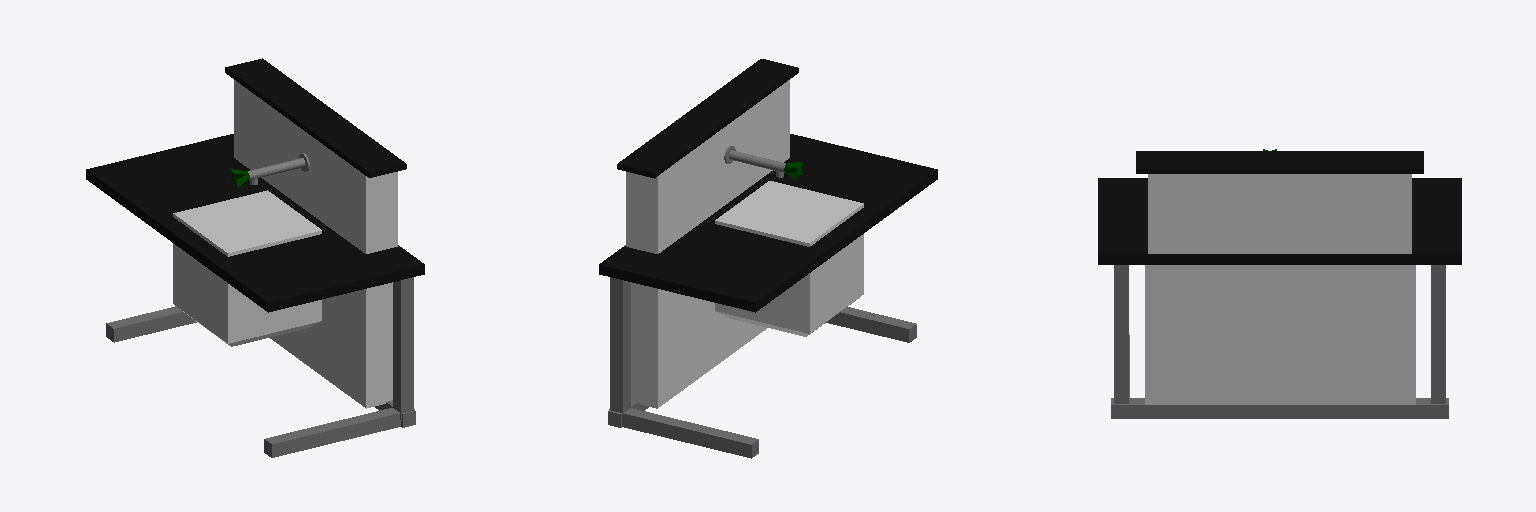
The model's file is Sink.obj.
3 renders of one model, left to right at view 1: azimuth 30°, elevation 25°; view 2: azimuth 150°, elevation 25°; view 3: azimuth 270°, elevation 25°, orthographic.
Visible parts, largest first — view 1: Cube.002_Cube.001, Cube_Cube.004, Cube.003_Cube.006, Cube.020_Cube.023, Cube.005_Cube.002, Cube.017_Cube.020, Cube.022_Cube.025, Cube.018_Cube.021, Cylinder; view 2: Cube.002_Cube.001, Cube_Cube.004, Cube.003_Cube.006, Cube.020_Cube.023, Cube.005_Cube.002, Cube.018_Cube.021, Cube.021_Cube.024, Cube.017_Cube.020, Cylinder; view 3: Cube.020_Cube.023, Cube_Cube.004, Cube.002_Cube.001, Cube.005_Cube.002, Cube.019_Cube.022, Cube.021_Cube.024, Cube.022_Cube.025.
Boxes of the visible parts, <box> form: Cube.002_Cube.001: <box>86,134,424,312</box>; Cube_Cube.004: <box>234,80,397,253</box>; Cube.003_Cube.006: <box>173,190,321,346</box>; Cube.020_Cube.023: <box>270,282,392,408</box>; Cube.005_Cube.002: <box>225,58,406,177</box>; Cube.017_Cube.020: <box>264,408,414,457</box>; Cube.022_Cube.025: <box>393,277,413,420</box>; Cube.018_Cube.021: <box>106,306,196,342</box>; Cylinder: <box>248,158,305,180</box>; Cube.002_Cube.001: <box>599,134,937,312</box>; Cube_Cube.004: <box>626,80,789,253</box>; Cube.003_Cube.006: <box>715,181,863,336</box>; Cube.020_Cube.023: <box>631,282,766,408</box>; Cube.005_Cube.002: <box>617,59,798,178</box>; Cube.018_Cube.021: <box>609,408,758,458</box>; Cube.021_Cube.024: <box>610,277,630,412</box>; Cube.017_Cube.020: <box>826,307,916,342</box>; Cylinder: <box>729,150,785,172</box>; Cube.020_Cube.023: <box>1145,265,1415,404</box>; Cube_Cube.004: <box>1148,174,1411,253</box>; Cube.002_Cube.001: <box>1098,178,1461,264</box>; Cube.005_Cube.002: <box>1136,151,1423,173</box>; Cube.019_Cube.022: <box>1111,398,1448,418</box>; Cube.021_Cube.024: <box>1431,265,1445,403</box>; Cube.022_Cube.025: <box>1114,265,1128,403</box>.
Size of the model in its own units: 114 by 174 by 228.